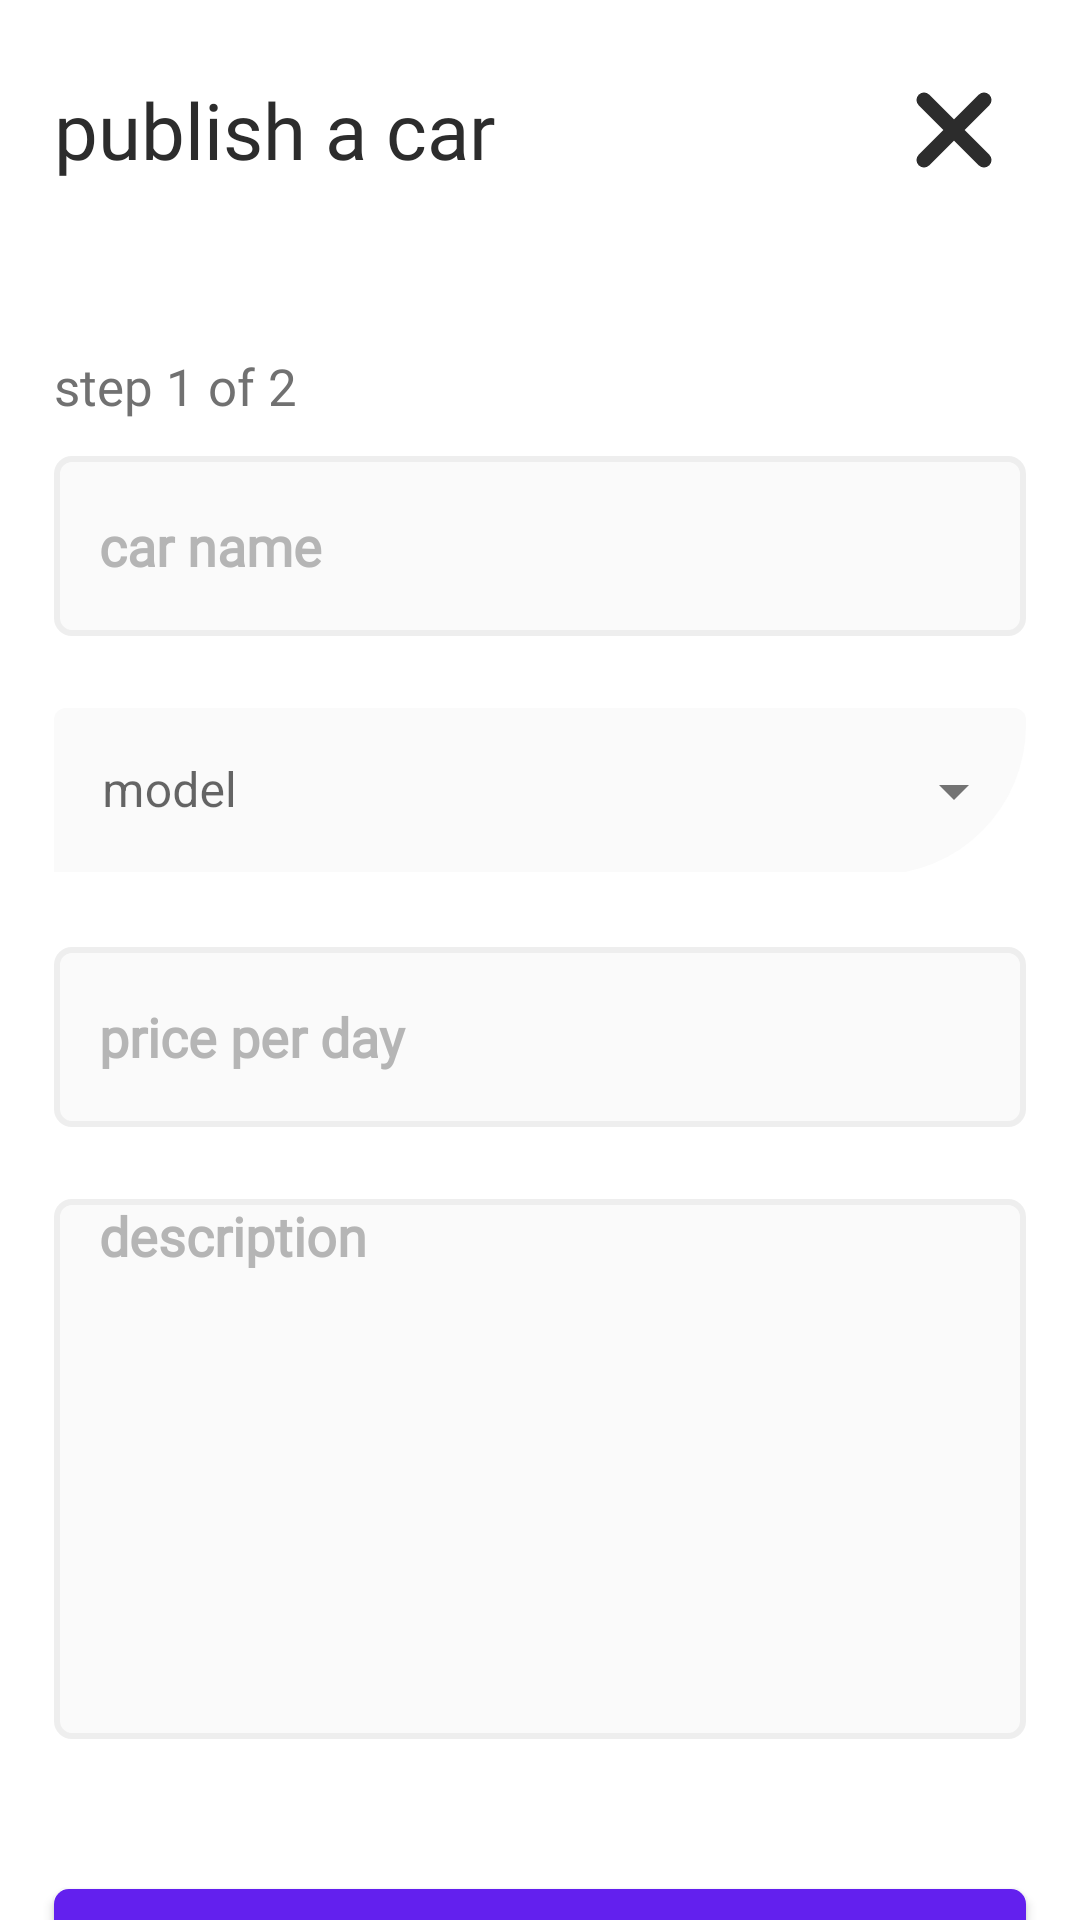

Named icons in this screenshot (1080*1920) and their bounding boxes, (x1, y1, x2, y2):
close: (916, 92, 992, 168)
